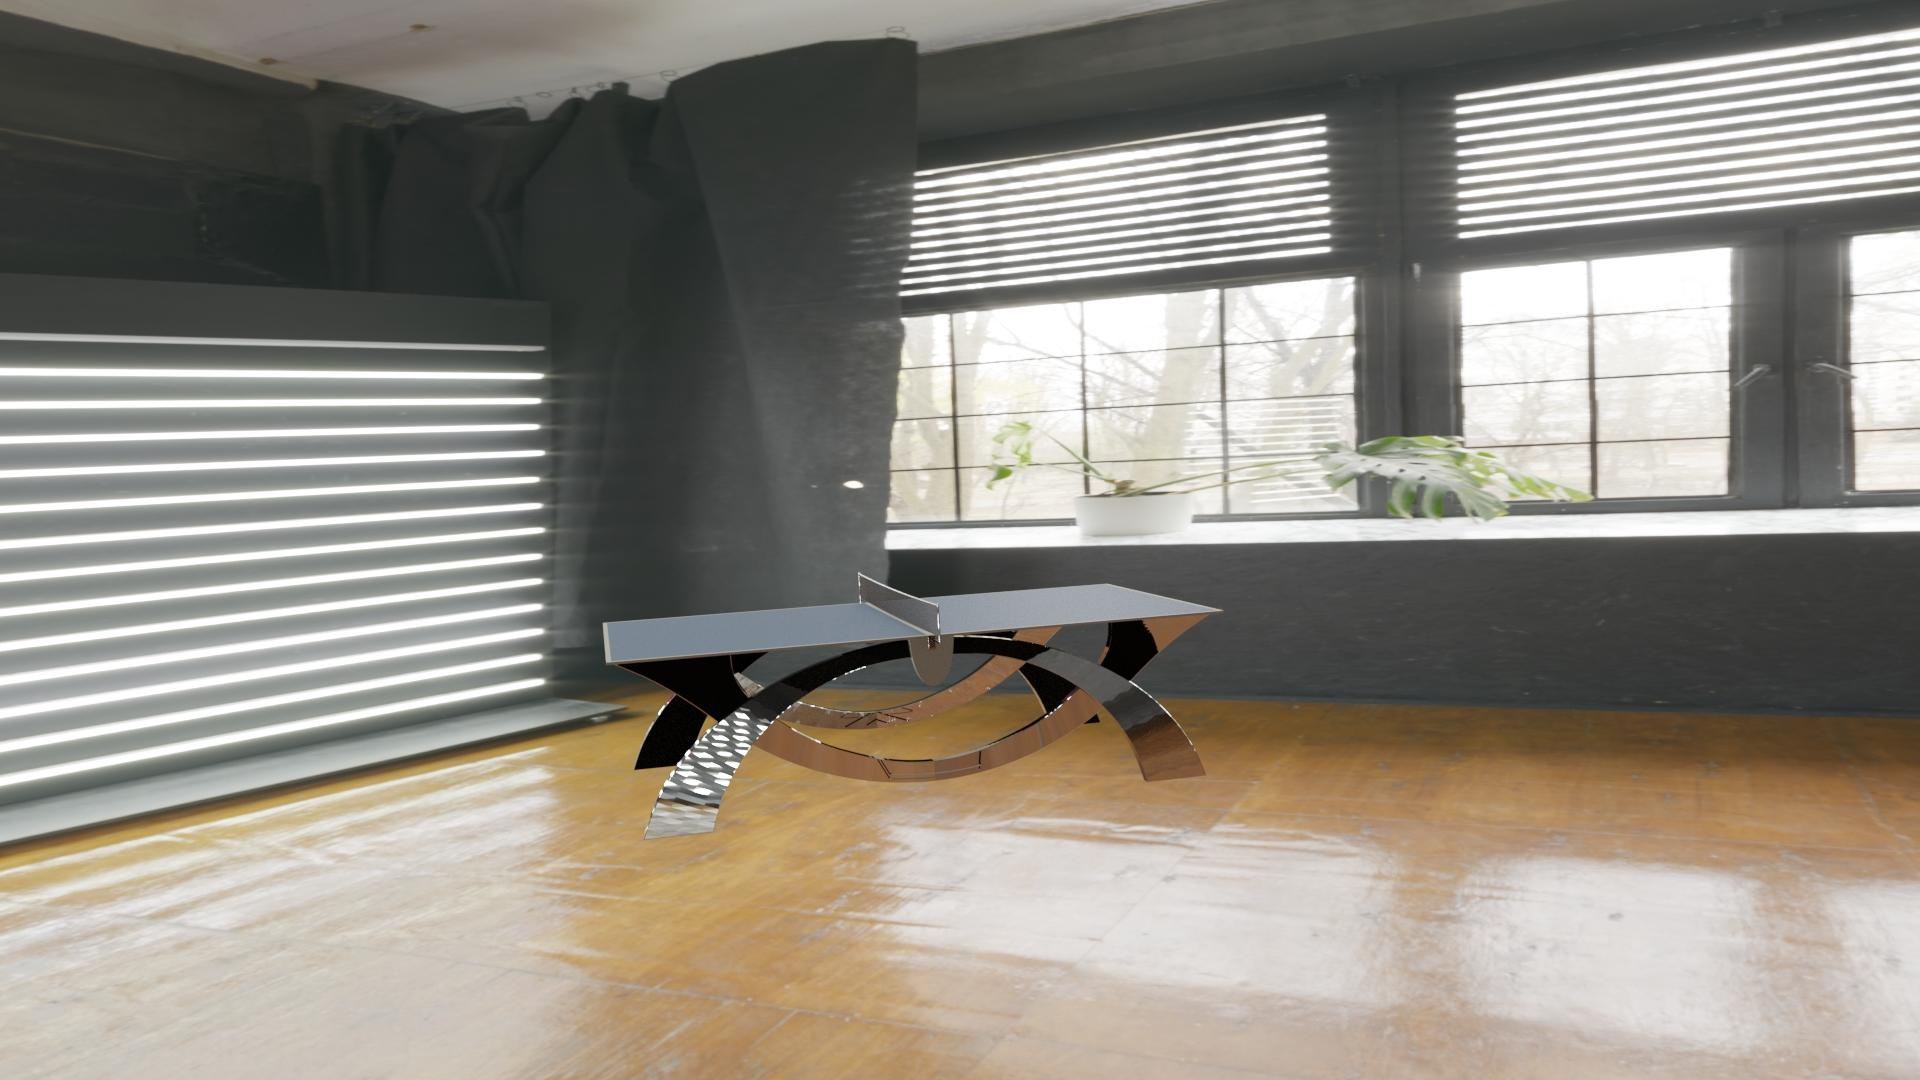table: (607, 584, 1217, 662)
